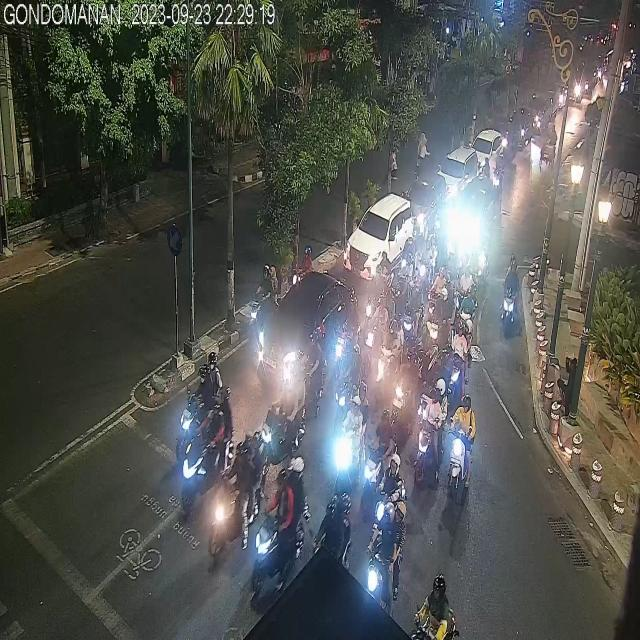car: (258, 275, 352, 385), (342, 196, 412, 276), (406, 171, 448, 239), (438, 143, 480, 200), (471, 132, 503, 180)
motorcycle: (179, 384, 232, 520), (207, 433, 259, 565), (250, 452, 304, 579), (257, 359, 307, 470), (367, 506, 406, 610), (404, 571, 460, 640), (178, 357, 220, 445), (411, 380, 445, 487), (361, 408, 397, 496), (447, 392, 476, 494), (250, 263, 276, 330), (503, 248, 522, 338), (451, 322, 473, 394)
